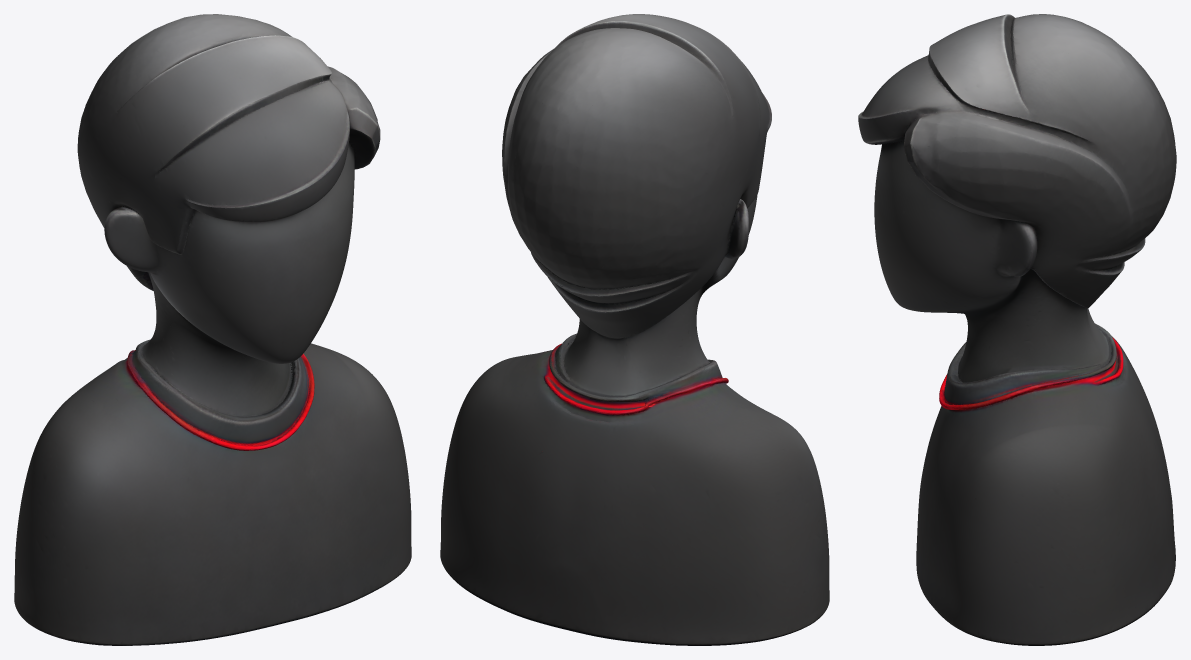
File: base_basic_pbr.glb
The picture shows the model from 3 angles, left to right: view 1: azimuth 30°, elevation 25°; view 2: azimuth 150°, elevation 25°; view 3: azimuth 270°, elevation 25°; orthographic projection. The views are drawn at different scales.
Parts seen in each view (by area): view 1: model; view 2: model; view 3: model.
Part boxes in pixels (x1,y1,x2,y2): model: (14, 14, 411, 645); model: (440, 14, 829, 645); model: (858, 14, 1176, 645).
Bounding box in the file's own units: 1.33 × 1.9 × 1.03.
Materials: 1 (1 with a texture image).
